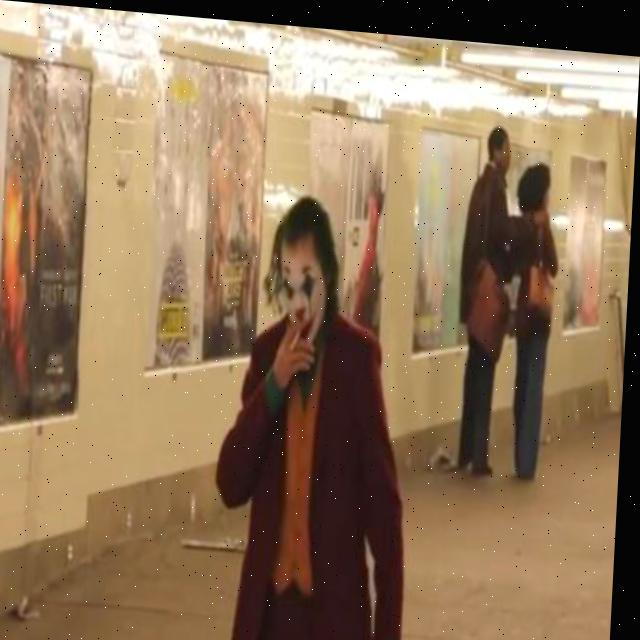cigarette: (291, 321, 307, 351)
